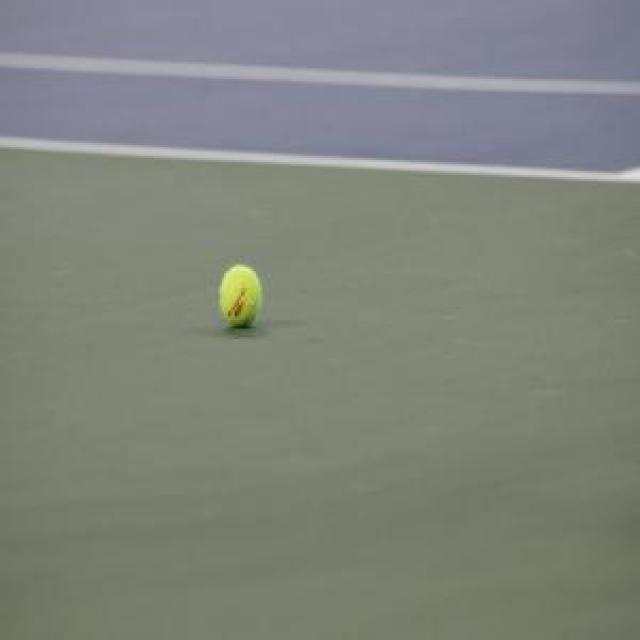ball: (219, 265, 261, 329)
